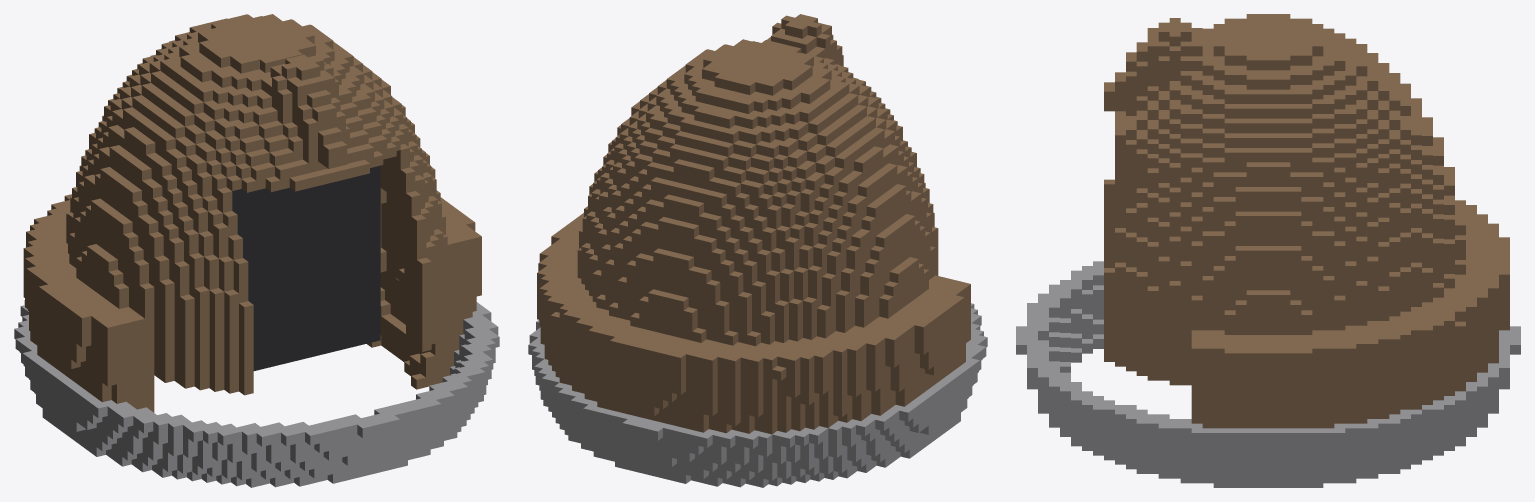
Rendered from leather_uncommon_helmet.glb.
The picture shows the model from 3 angles, left to right: view 1: azimuth 30°, elevation 25°; view 2: azimuth 150°, elevation 25°; view 3: azimuth 270°, elevation 25°; orthographic projection. The views are drawn at different scales.
Visible parts, largest first — view 1: leather_uncommon_helmet; view 2: leather_uncommon_helmet; view 3: leather_uncommon_helmet.
Boxes of the visible parts, x1,y1,x2,y2 form: leather_uncommon_helmet: [14, 14, 499, 487]; leather_uncommon_helmet: [528, 14, 987, 487]; leather_uncommon_helmet: [1016, 14, 1520, 487].
Bounding box in the file's own units: 0.504 × 0.444 × 0.552.
